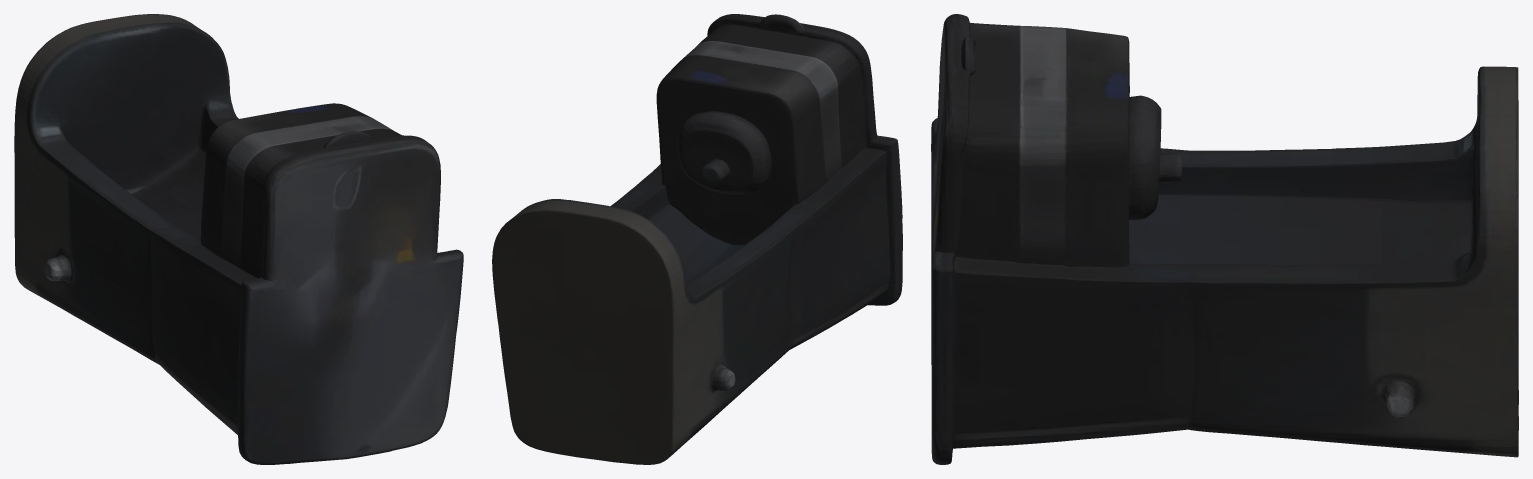
The picture shows the model from 3 angles, left to right: view 1: azimuth 30°, elevation 25°; view 2: azimuth 150°, elevation 25°; view 3: azimuth 270°, elevation 25°; orthographic projection. The views are drawn at different scales.
Visible parts, largest first — view 1: geometry_0; view 2: geometry_0; view 3: geometry_0.
Part boxes in pixels (box(x1,y1,x2,y2)): geometry_0: box(14, 14, 463, 464); geometry_0: box(492, 14, 902, 464); geometry_0: box(931, 14, 1518, 464).
Bounding box in the file's own units: 0.1606 × 0.2153 × 0.2971.
Materials: 1 (1 with a texture image).
